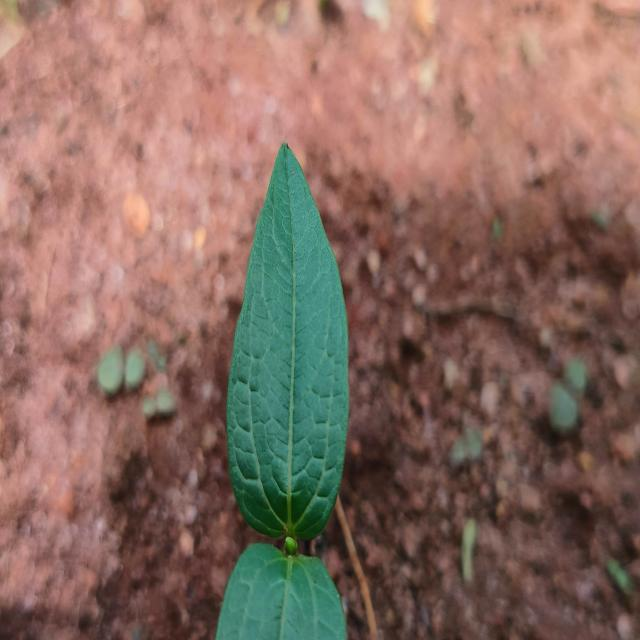Black gram_healthy: (228, 139, 346, 548)
